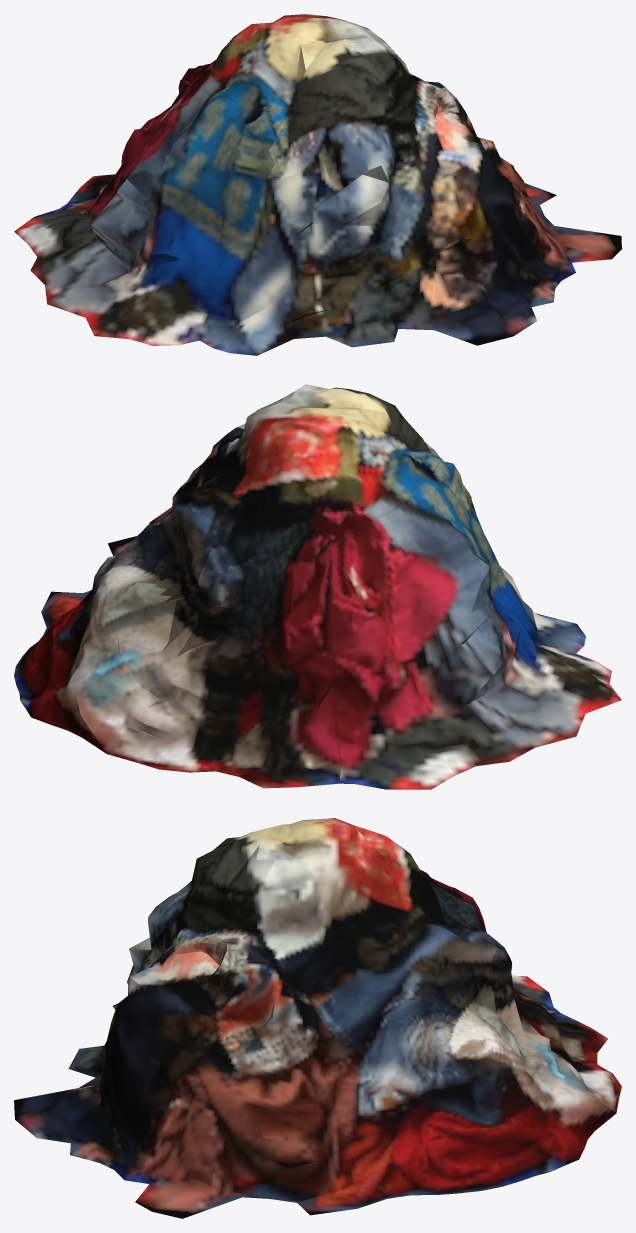
Rendered from cloth_pile.2850496612.glb.
The picture shows the model from 3 angles, top to bottom: view 1: azimuth 30°, elevation 25°; view 2: azimuth 150°, elevation 25°; view 3: azimuth 270°, elevation 25°; orthographic projection. The views are drawn at different scales.
Visible parts, largest first — view 1: cloth_pile; view 2: cloth_pile; view 3: cloth_pile.
Boxes of the visible parts, x1,y1,x2,y2 form: cloth_pile: (14, 14, 621, 355); cloth_pile: (14, 384, 621, 789); cloth_pile: (14, 818, 621, 1218).
Size of the model in its own units: 0.24 by 0.1093 by 0.229.
1 material, 1 textured.
